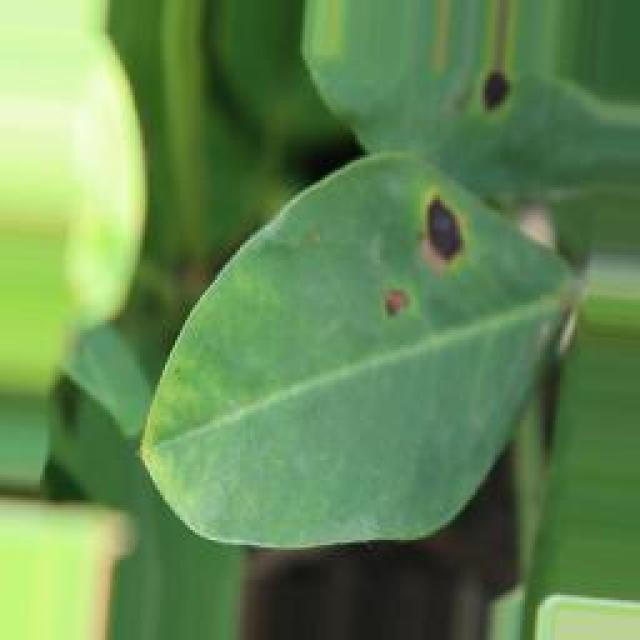Yellowish: (373, 161, 500, 327), (443, 23, 558, 170)
